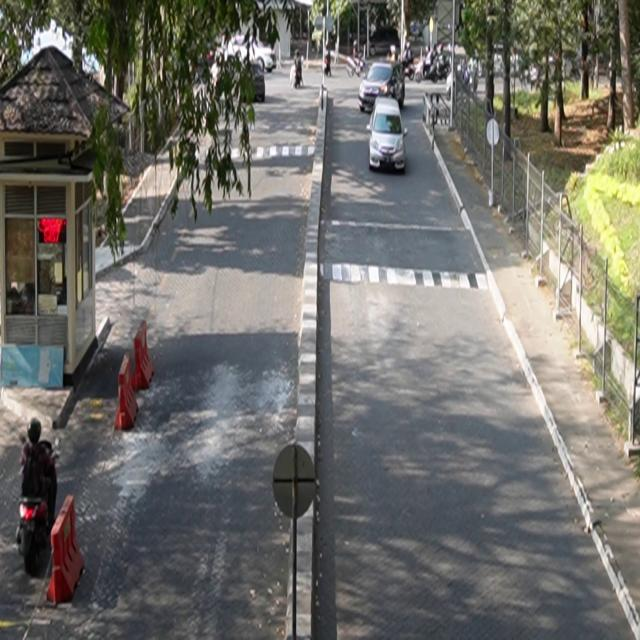car: (367, 96, 409, 173), (359, 62, 406, 114)
